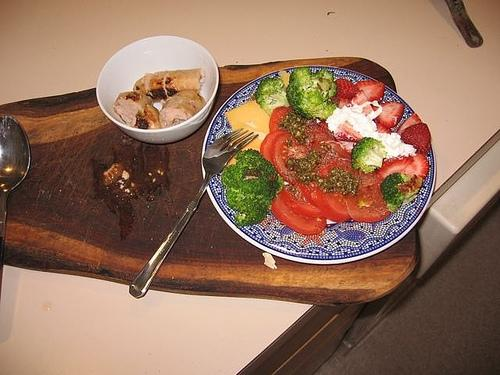broccoli: (222, 150, 284, 228), (286, 68, 338, 122), (380, 172, 420, 212), (254, 75, 291, 116), (351, 136, 388, 174)
strawberry: (376, 153, 430, 180), (400, 122, 431, 155), (372, 101, 404, 128), (354, 80, 384, 104), (395, 112, 422, 136), (334, 78, 358, 99), (330, 96, 352, 108), (376, 123, 392, 134)
tomato: (271, 120, 338, 186), (271, 190, 326, 235), (346, 181, 390, 222), (311, 187, 352, 223), (260, 130, 288, 164), (268, 106, 293, 132), (297, 182, 317, 206)
